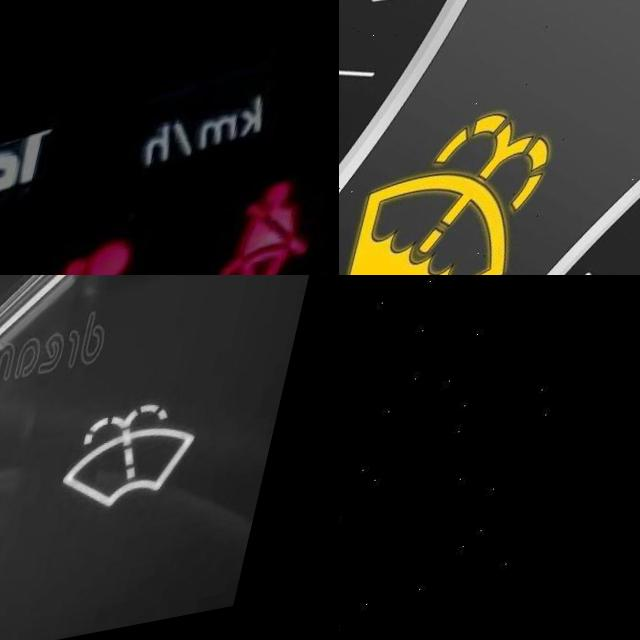Washer Fluid: (350, 118, 568, 275), (76, 415, 223, 534)
